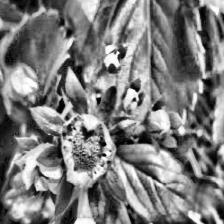Blossom Blight: (60, 114, 114, 186)
